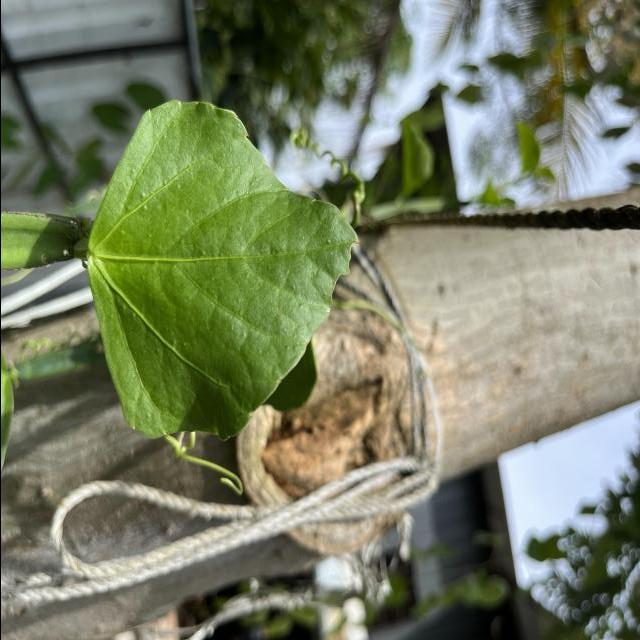Cissus quadrangularis: (81, 94, 363, 444)
